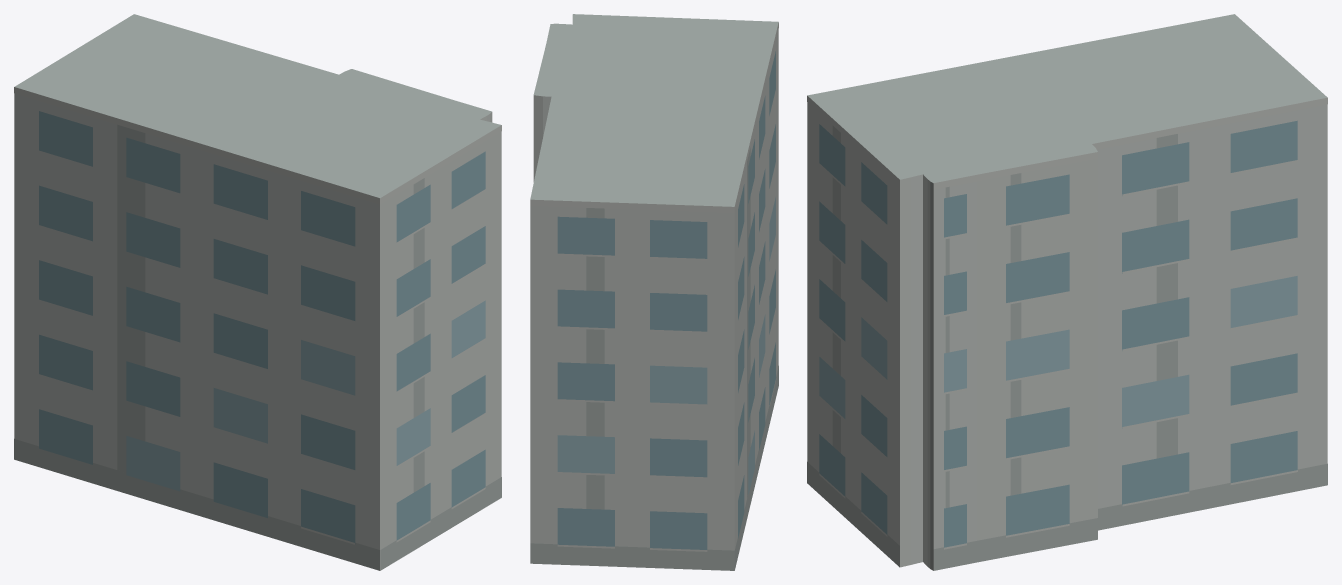
File: survey-upis-32976698.glb
The picture shows the model from 3 angles, left to right: view 1: azimuth 30°, elevation 25°; view 2: azimuth 150°, elevation 25°; view 3: azimuth 270°, elevation 25°; orthographic projection. The views are drawn at different scales.
Parts seen in each view (by area): view 1: survey-upis-32976698.tmp; view 2: survey-upis-32976698.tmp; view 3: survey-upis-32976698.tmp.
Part boxes in pixels (x1,y1,x2,y2): survey-upis-32976698.tmp: (14,14,501,570); survey-upis-32976698.tmp: (530,14,778,570); survey-upis-32976698.tmp: (807,14,1327,570).
Size of the model in its own units: 13.35 by 14.25 by 17.35.
